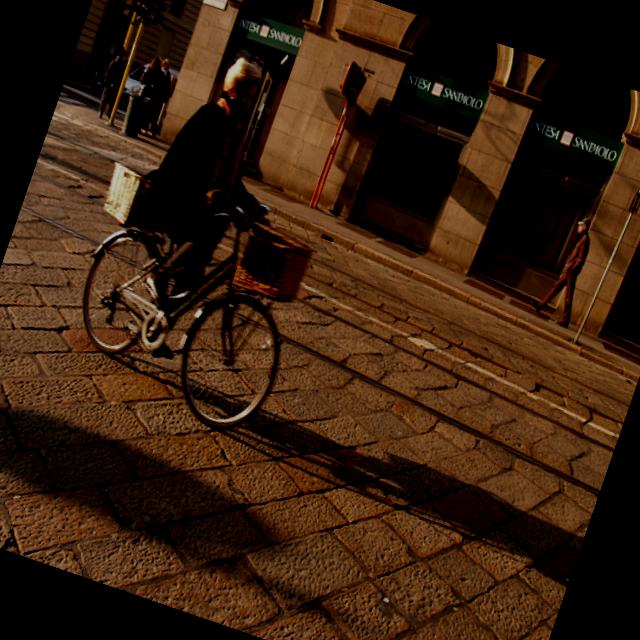Vehicle: (120, 58, 150, 106)
